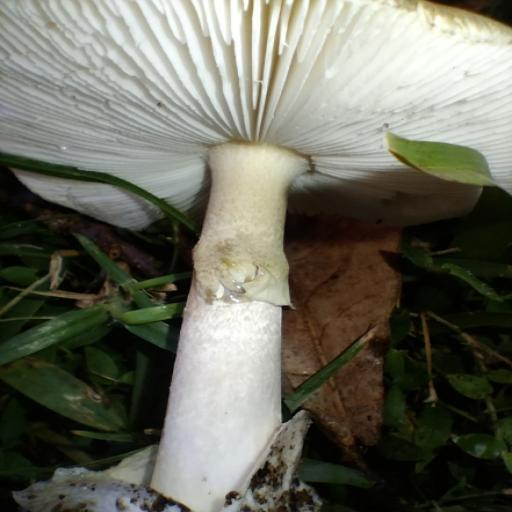Death Cap: (7, 0, 511, 511)
